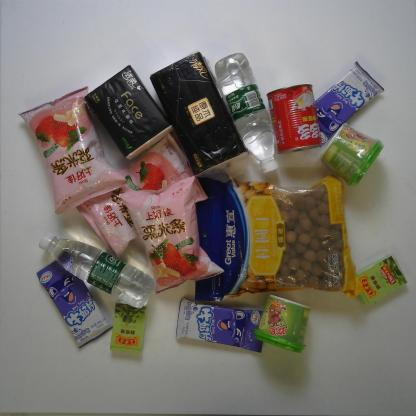Candy: (32, 250, 113, 350), (305, 59, 385, 139), (173, 294, 264, 355), (352, 255, 408, 306), (108, 300, 148, 353)
Canned Food: (266, 82, 326, 155)
Dried Food: (191, 174, 355, 303)
Drink: (37, 231, 156, 310), (213, 49, 280, 174)
Instant Drink: (320, 123, 384, 187), (252, 294, 312, 353)
Puffed Food: (74, 133, 210, 260), (16, 85, 126, 219), (117, 177, 225, 295)
Tissue: (148, 50, 249, 175), (84, 63, 174, 161)
